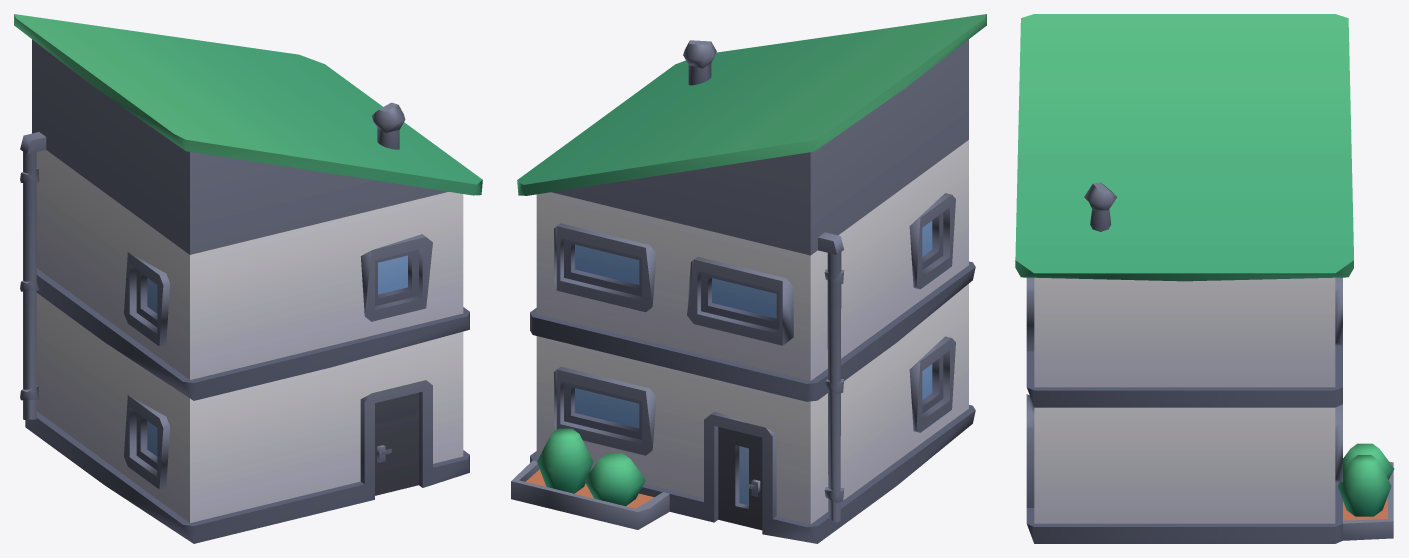
Rendered from 064_city-kit-suburban_building-type-k_card.glb.
3 renders of one model, left to right at view 1: azimuth 30°, elevation 25°; view 2: azimuth 150°, elevation 25°; view 3: azimuth 270°, elevation 25°, orthographic. The views are drawn at different scales.
Parts seen in each view (by area): view 1: building-type-k; view 2: building-type-k; view 3: building-type-k.
Part boxes in pixels (x1,y1,x2,y2): building-type-k: [14, 14, 482, 543]; building-type-k: [511, 14, 986, 543]; building-type-k: [1015, 14, 1394, 543].
Size of the model in its own units: 0.9209 by 1.15 by 1.01.
1 material, 1 textured.
